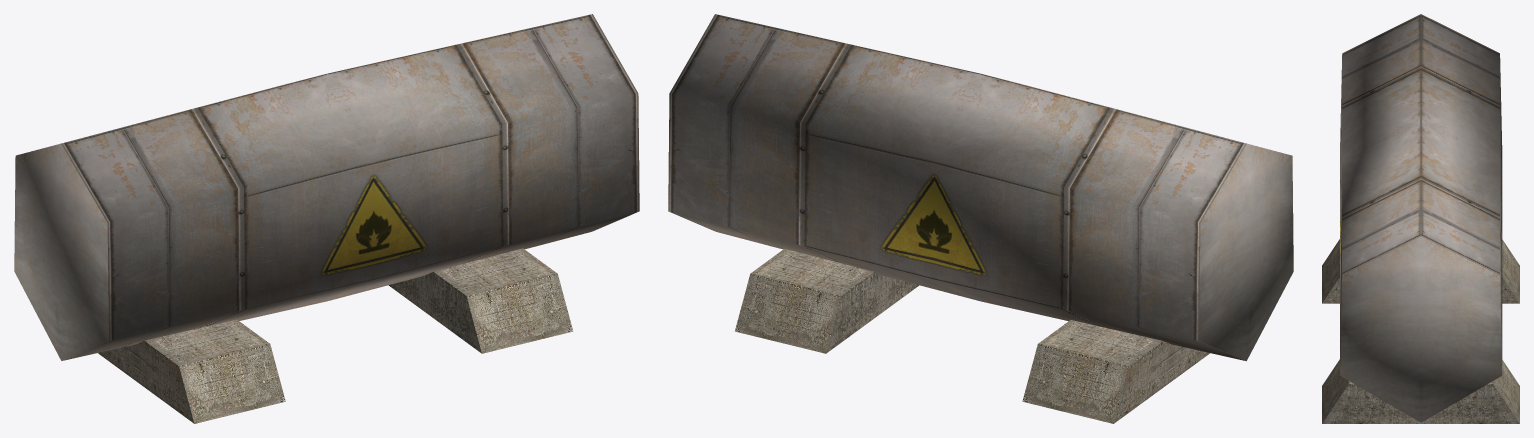
Rendered from Prop_Yg02_lod2.glb.
The picture shows the model from 3 angles, left to right: view 1: azimuth 30°, elevation 25°; view 2: azimuth 150°, elevation 25°; view 3: azimuth 270°, elevation 25°; orthographic projection. The views are drawn at different scales.
Parts seen in each view (by area): view 1: xiutz_yg_02_lod2; view 2: xiutz_yg_02_lod2; view 3: xiutz_yg_02_lod2.
Part boxes in pixels (left/top/right/bottom): xiutz_yg_02_lod2: left=14, top=14, right=639, bottom=423; xiutz_yg_02_lod2: left=668, top=14, right=1293, bottom=423; xiutz_yg_02_lod2: left=1322, top=14, right=1519, bottom=423.
Size of the model in its own units: 15.37 by 6.95 by 5.56.
1 material, 1 textured.
